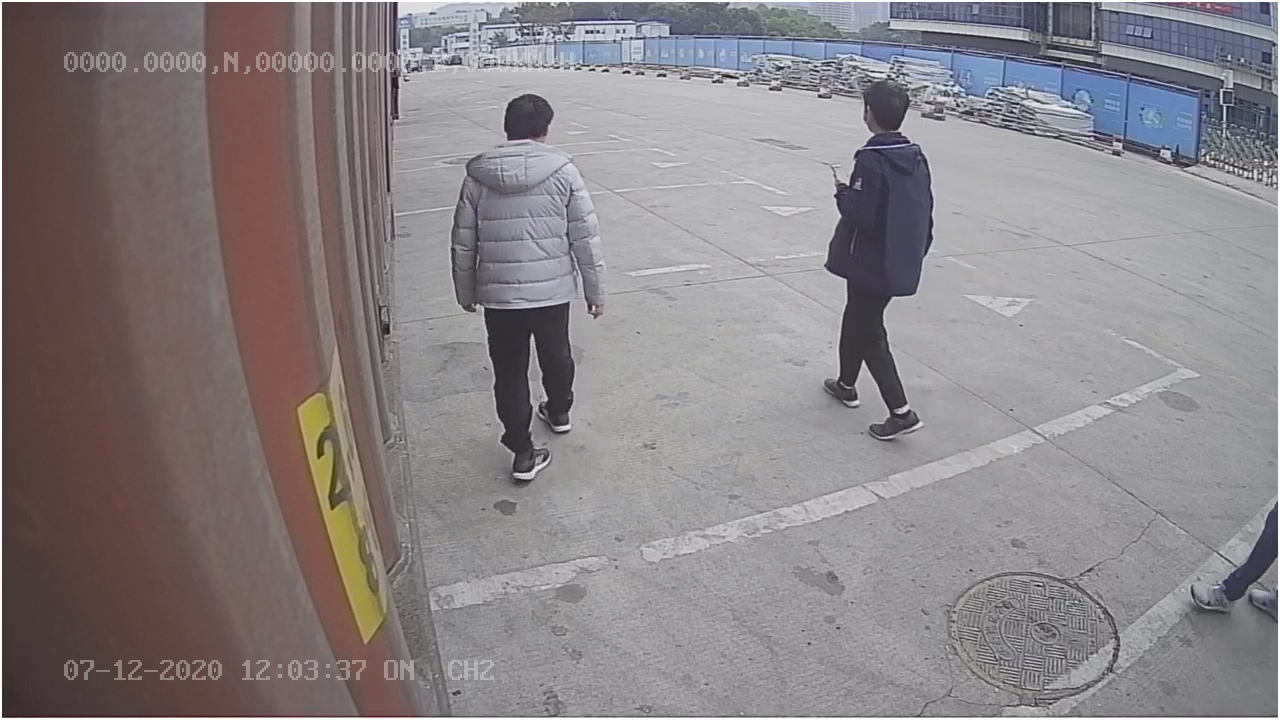person: (452, 84, 607, 492), (822, 56, 937, 444)
